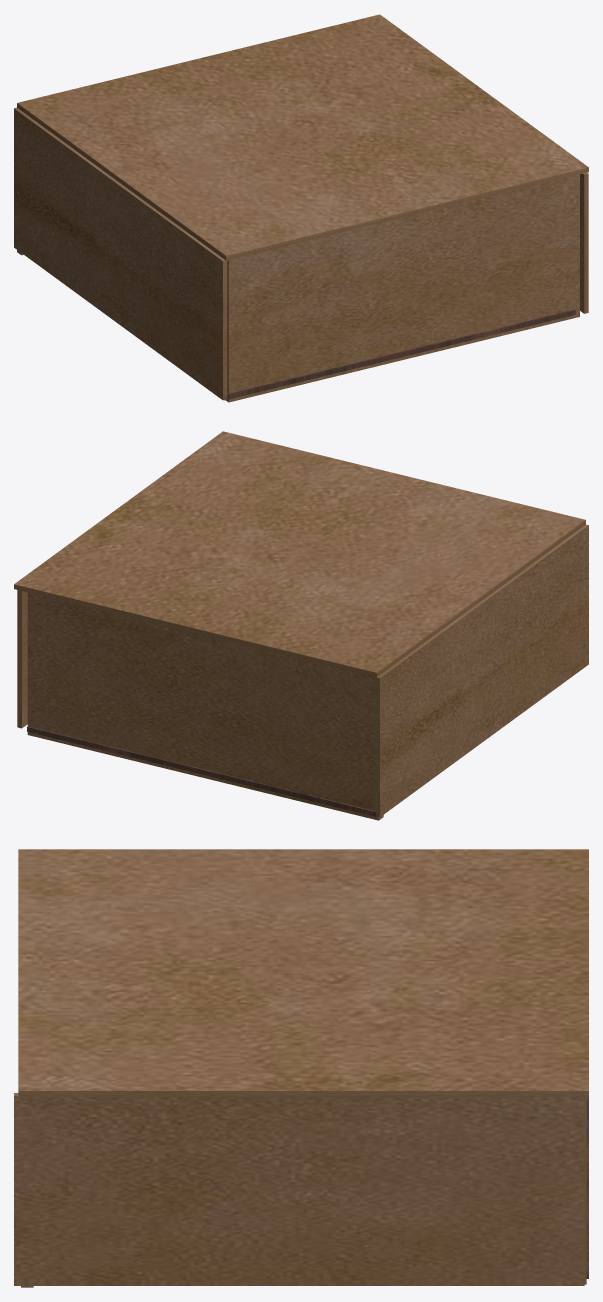
Rendered from room1.fbx.
The picture shows the model from 3 angles, top to bottom: view 1: azimuth 30°, elevation 25°; view 2: azimuth 150°, elevation 25°; view 3: azimuth 270°, elevation 25°; orthographic projection. The views are drawn at different scales.
Parts seen in each view (by area): view 1: polySurface100, polySurface101, polySurface98, polySurface99, polySurface96; view 2: polySurface100, polySurface97, polySurface98, polySurface99, polySurface96; view 3: polySurface100, polySurface96, polySurface97.
Part boxes in pixels (left/top/right/bottom): polySurface100: left=17, top=14, right=588, bottom=260; polySurface101: left=226, top=174, right=579, bottom=402; polySurface98: left=14, top=107, right=227, bottom=400; polySurface99: left=224, top=309, right=575, bottom=400; polySurface96: left=580, top=172, right=588, bottom=313; polySurface100: left=14, top=431, right=585, bottom=677; polySurface97: left=27, top=592, right=383, bottom=820; polySurface98: left=375, top=524, right=588, bottom=817; polySurface99: left=27, top=726, right=378, bottom=817; polySurface96: left=17, top=590, right=27, bottom=728; polySurface100: left=18, top=849, right=588, bottom=1097; polySurface96: left=14, top=1093, right=584, bottom=1285; polySurface97: left=584, top=1097, right=586, bottom=1284.
Bounding box in the file's own units: 213 × 82.25 × 212.
